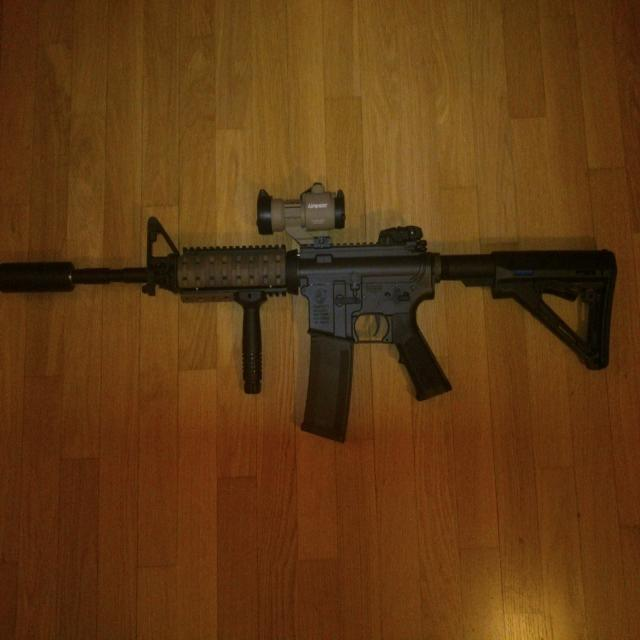firearm: (0, 183, 616, 443)
